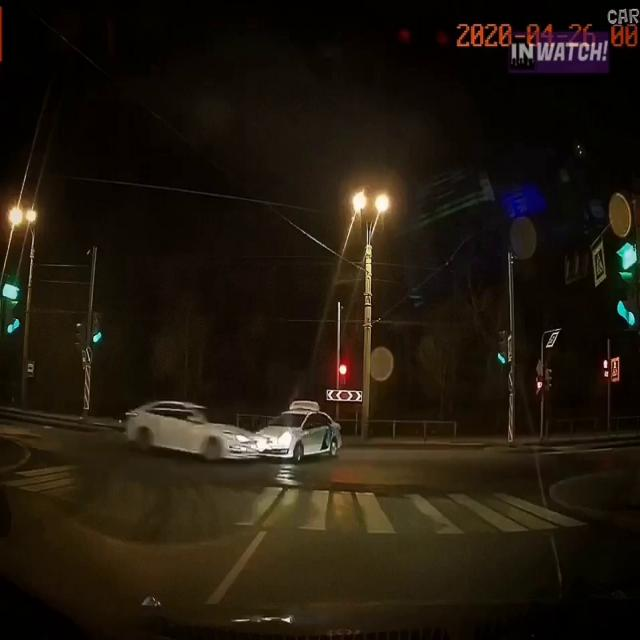accident: (123, 395, 344, 461)
